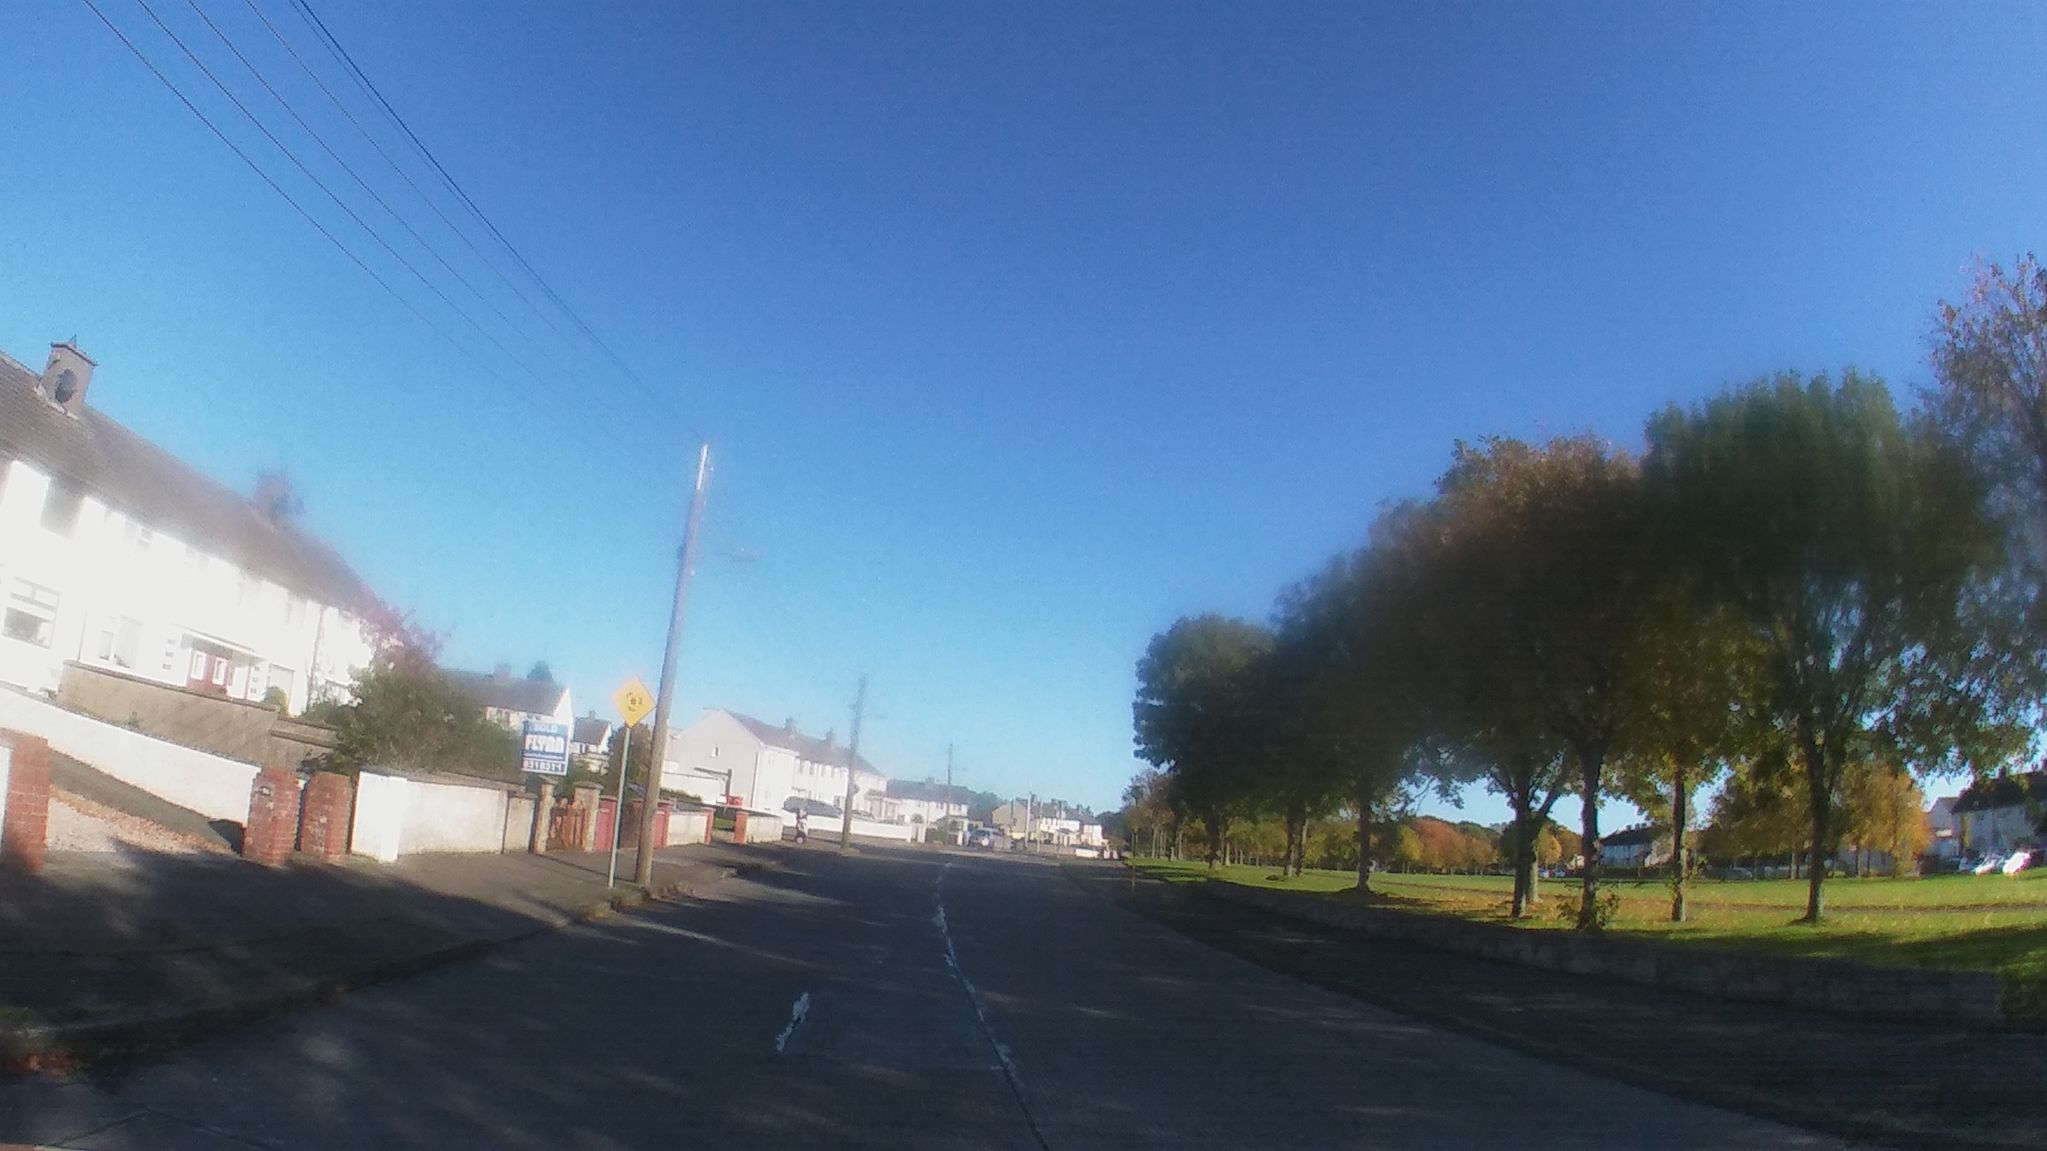property sign: (522, 701, 575, 788)
